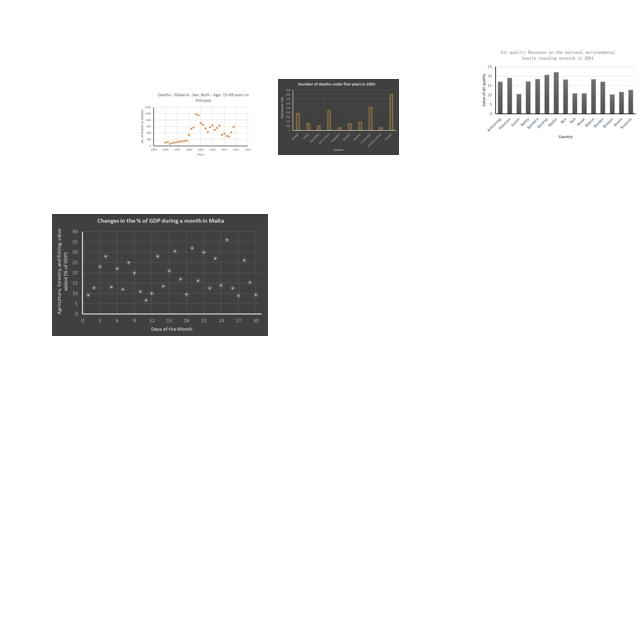Graph: (52, 214, 268, 336), (478, 46, 638, 143), (278, 79, 399, 155), (138, 91, 253, 158)
